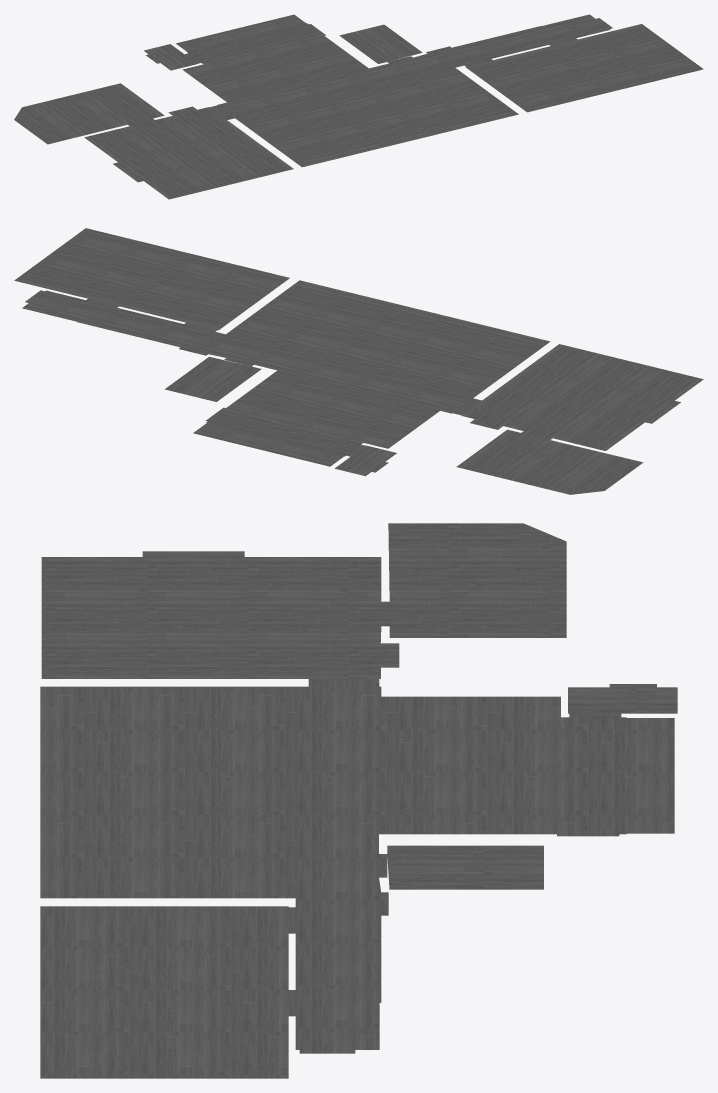
Rendered from floor.glb.
The picture shows the model from 3 angles, top to bottom: view 1: azimuth 30°, elevation 25°; view 2: azimuth 150°, elevation 25°; view 3: azimuth 270°, elevation 25°; orthographic projection. The views are drawn at different scales.
Visible parts, largest first — view 1: 바닥; view 2: 바닥; view 3: 바닥.
Boxes of the visible parts, x1=… form: 바닥: x1=14, y1=14, x2=703, y2=199; 바닥: x1=14, y1=228, x2=703, y2=494; 바닥: x1=40, y1=523, x2=677, y2=1078.
Size of the model in its own units: 18.94 by 0 by 9.18.
Materials: 1 (1 with a texture image).
